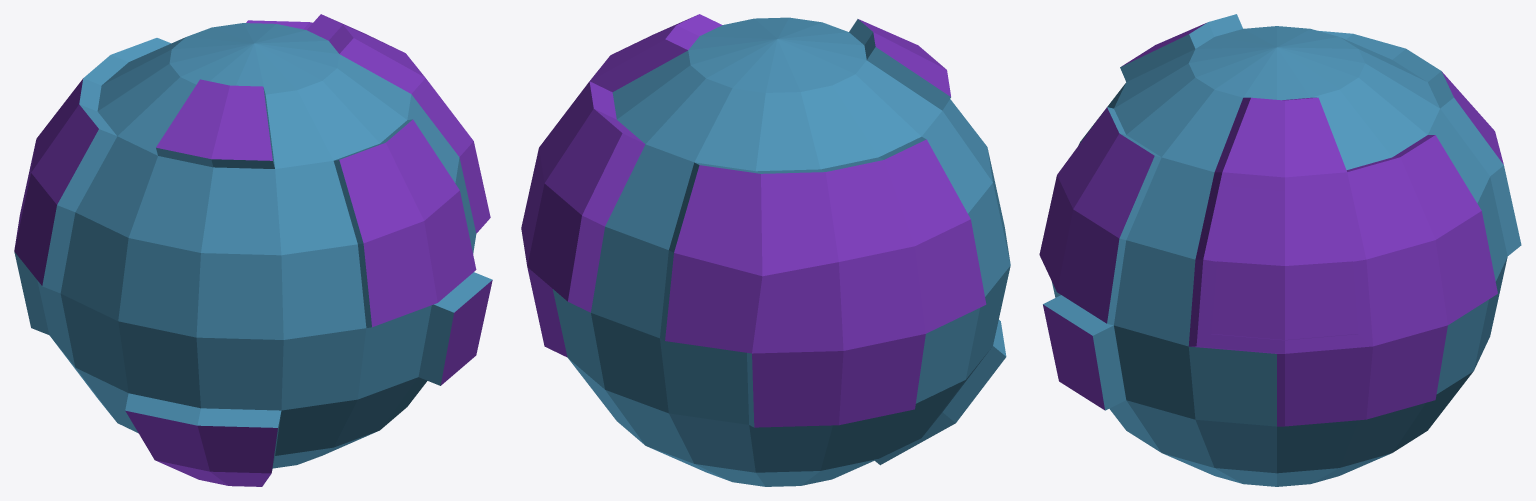
File: planetdemo.glb
3 renders of one model, left to right at view 1: azimuth 30°, elevation 25°; view 2: azimuth 150°, elevation 25°; view 3: azimuth 270°, elevation 25°, orthographic. The views are drawn at different scales.
Parts seen in each view (by area): view 1: Sphere; view 2: Sphere; view 3: Sphere.
Boxes of the visible parts, x1=… form: Sphere: x1=14, y1=14, x2=492, y2=486; Sphere: x1=521, y1=14, x2=1010, y2=486; Sphere: x1=1039, y1=14, x2=1521, y2=486.
Bounding box in the file's own units: 13.94 × 12.95 × 13.53.
1 material, 1 textured.
